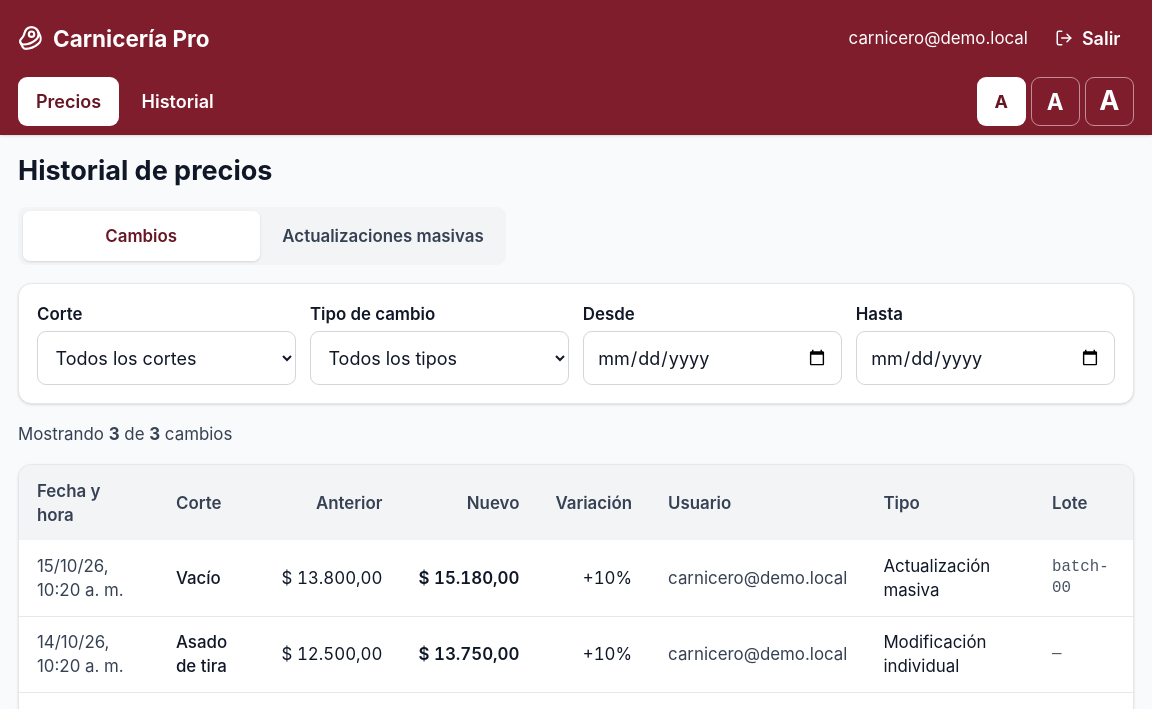
Test: reversión de una actualización masiva › no ofrece revertir una actualización que ya fue revertida
Click the tab "Actualizaciones masivas": (383, 236) [264,212,502,261]
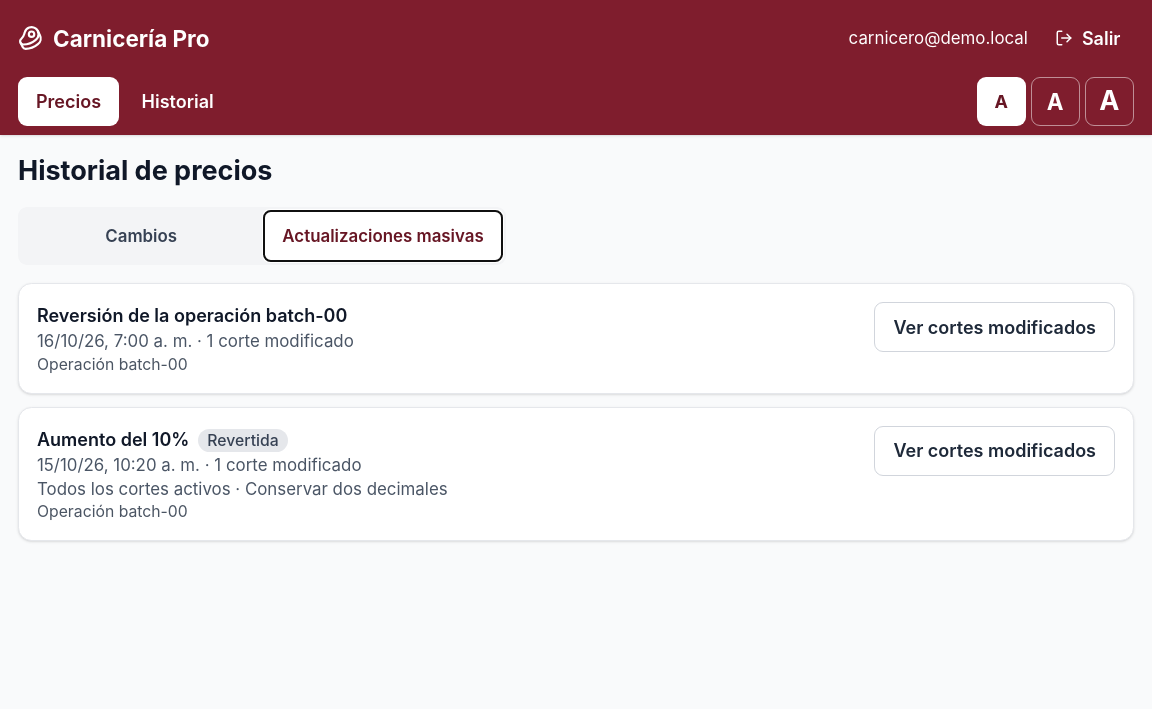
Expected: the text "Revertida" is shown, [198,429,288,452]
Expected: the heading "Reversión de la operación batch-00" is shown, [37,302,354,330]
